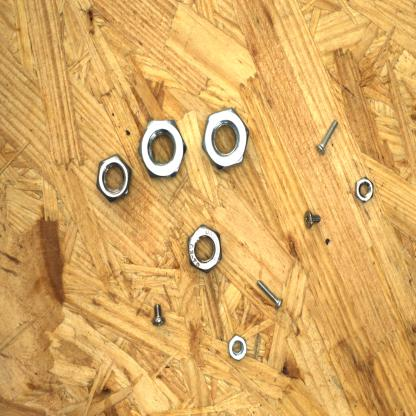screw: (251, 277, 287, 315), (312, 116, 341, 158), (304, 206, 322, 230), (152, 299, 166, 328)
